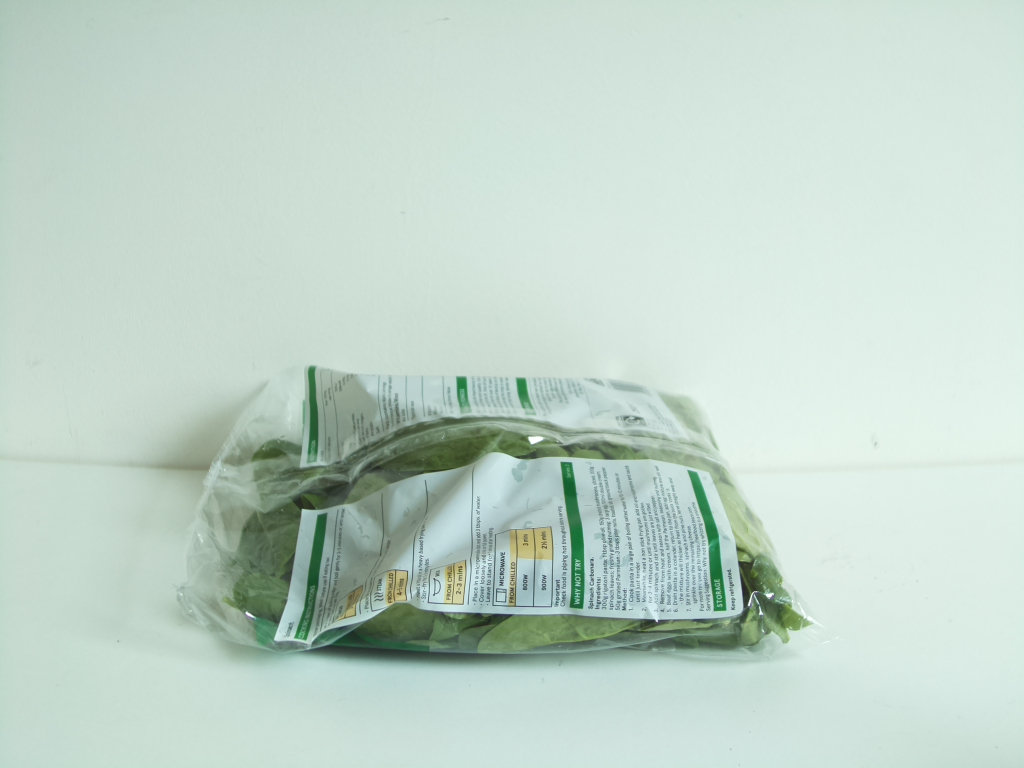salad: (224, 363, 810, 654)
